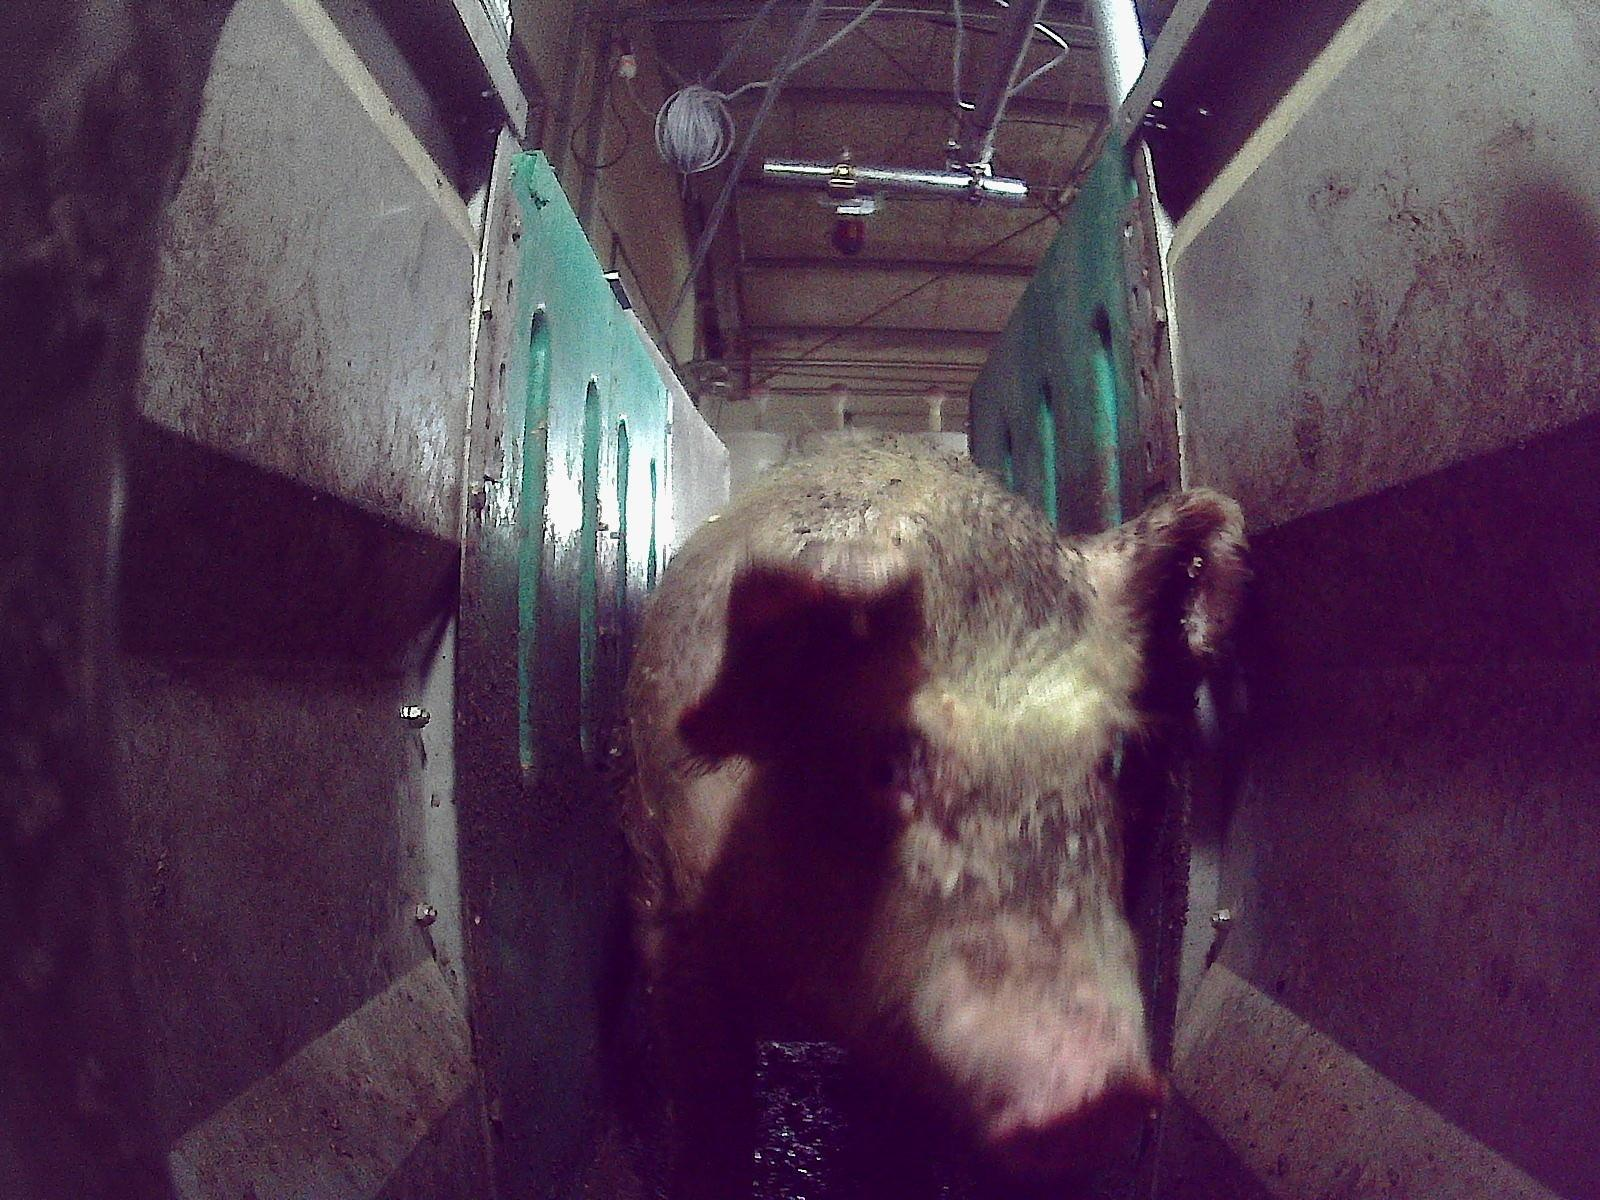Face: (742, 553, 1162, 1177)
